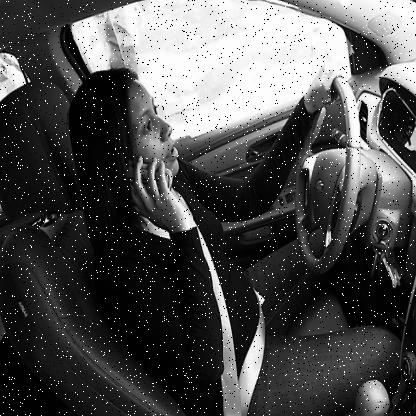seatbelt: (57, 37, 249, 338)
